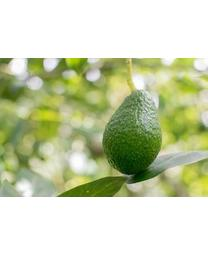avocado: (101, 89, 163, 176)
